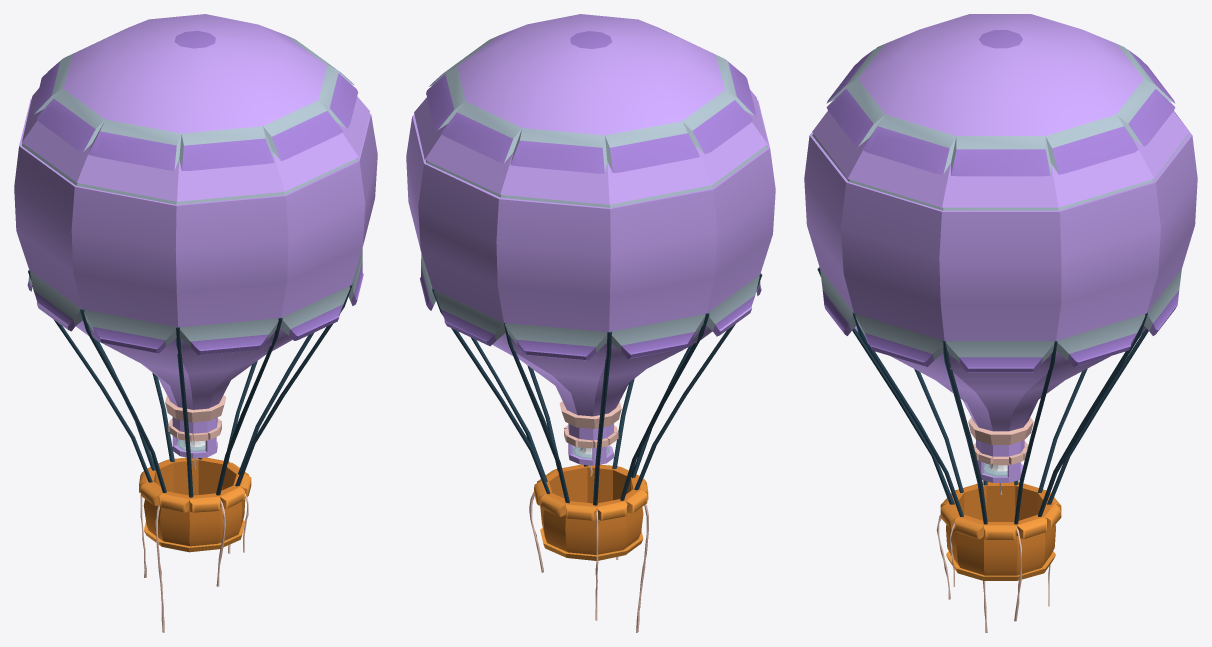
The model's file is air-transformed.glb.
The picture shows the model from 3 angles, left to right: view 1: azimuth 30°, elevation 25°; view 2: azimuth 150°, elevation 25°; view 3: azimuth 270°, elevation 25°; orthographic projection. The views are drawn at different scales.
Visible parts, largest first — view 1: Object_4; view 2: Object_4; view 3: Object_4.
Boxes of the visible parts, bbox=[...] form: Object_4: bbox=[14, 14, 377, 632]; Object_4: bbox=[406, 14, 775, 632]; Object_4: bbox=[804, 14, 1197, 632].
Bounding box in the file's own units: 5.36 × 9.68 × 5.63.
Materials: 2 (1 with a texture image).
